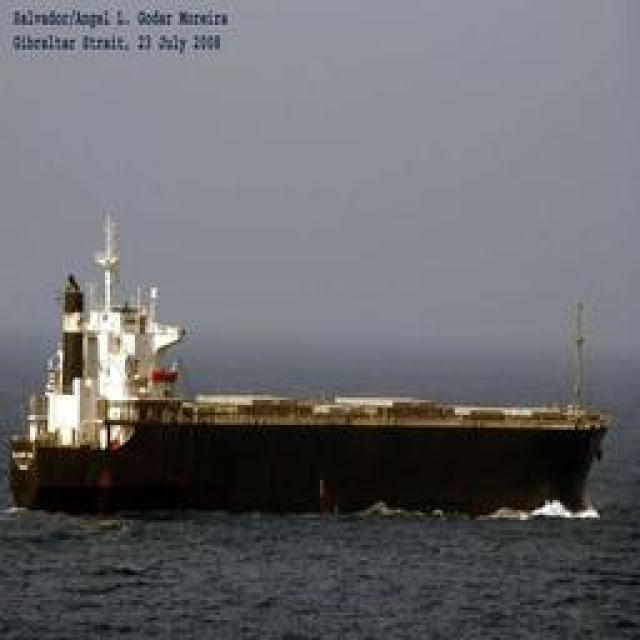ship2: (7, 211, 619, 523)
